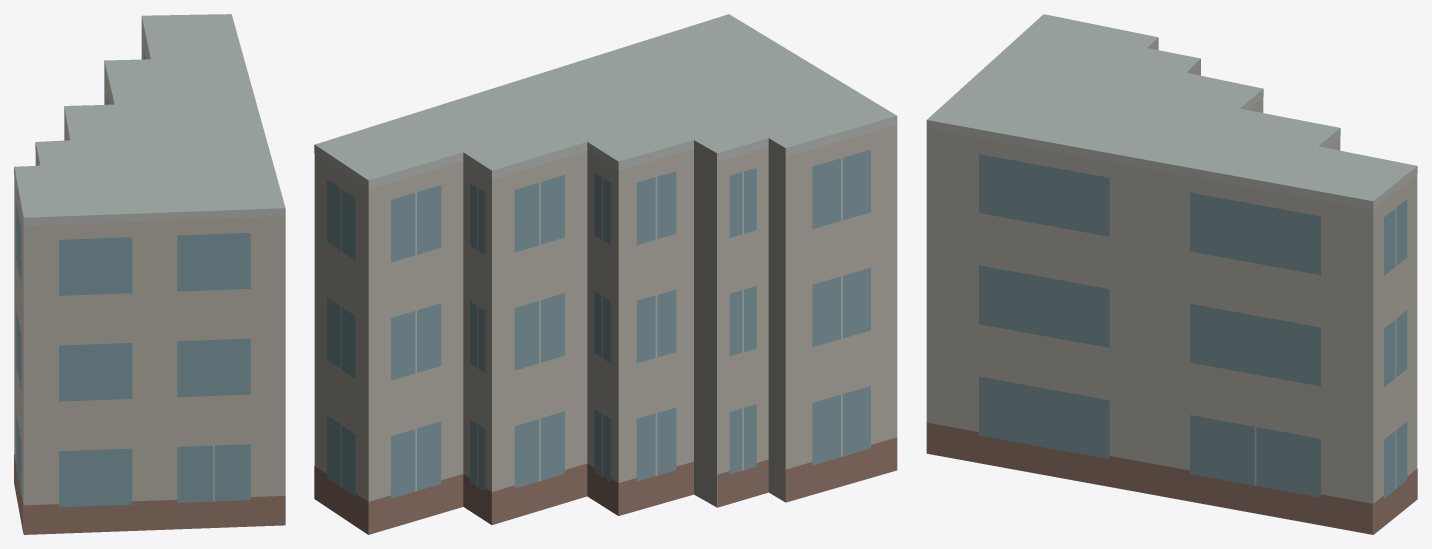
The model's file is survey-upis-33009457.glb.
3 renders of one model, left to right at view 1: azimuth 30°, elevation 25°; view 2: azimuth 150°, elevation 25°; view 3: azimuth 270°, elevation 25°, orthographic. The views are drawn at different scales.
Visible parts, largest first — view 1: survey-upis-33009457.tmp; view 2: survey-upis-33009457.tmp; view 3: survey-upis-33009457.tmp.
Part boxes in pixels (x1,y1,x2,y2): survey-upis-33009457.tmp: (14, 14, 285, 534); survey-upis-33009457.tmp: (314, 14, 897, 534); survey-upis-33009457.tmp: (926, 14, 1417, 534).
Size of the model in its own units: 11.62 by 9.65 by 12.87.
